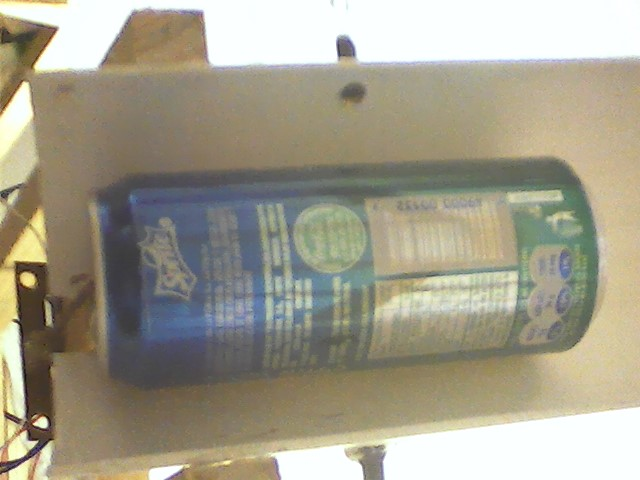lata: (82, 153, 614, 399)
